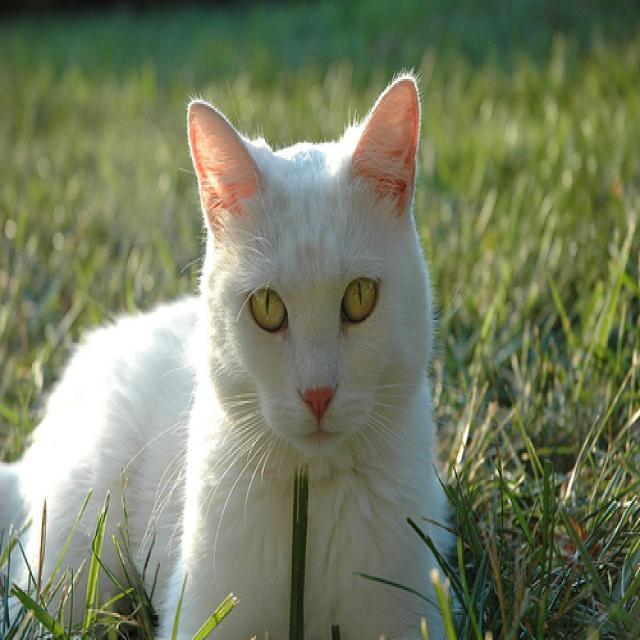left eye: (338, 272, 379, 324)
